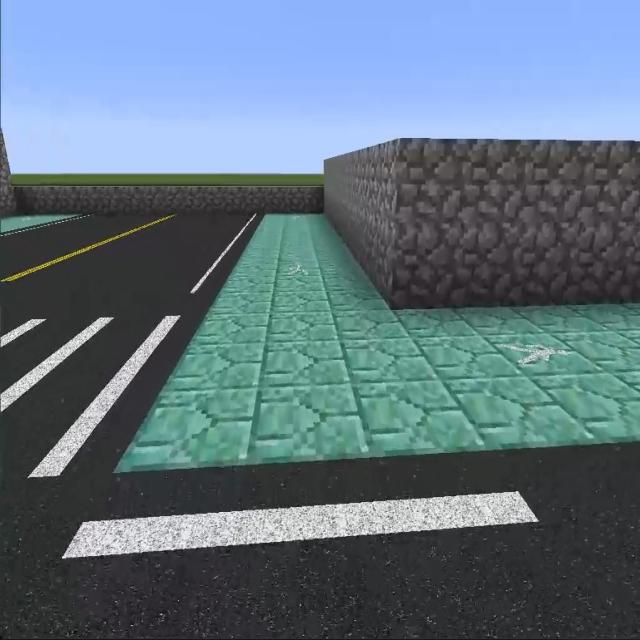crosswalk: (27, 446, 634, 634), (2, 303, 205, 479)
road: (2, 213, 259, 303), (3, 484, 90, 635), (556, 450, 631, 587)
sidewalk: (118, 207, 639, 469), (0, 215, 86, 234)
